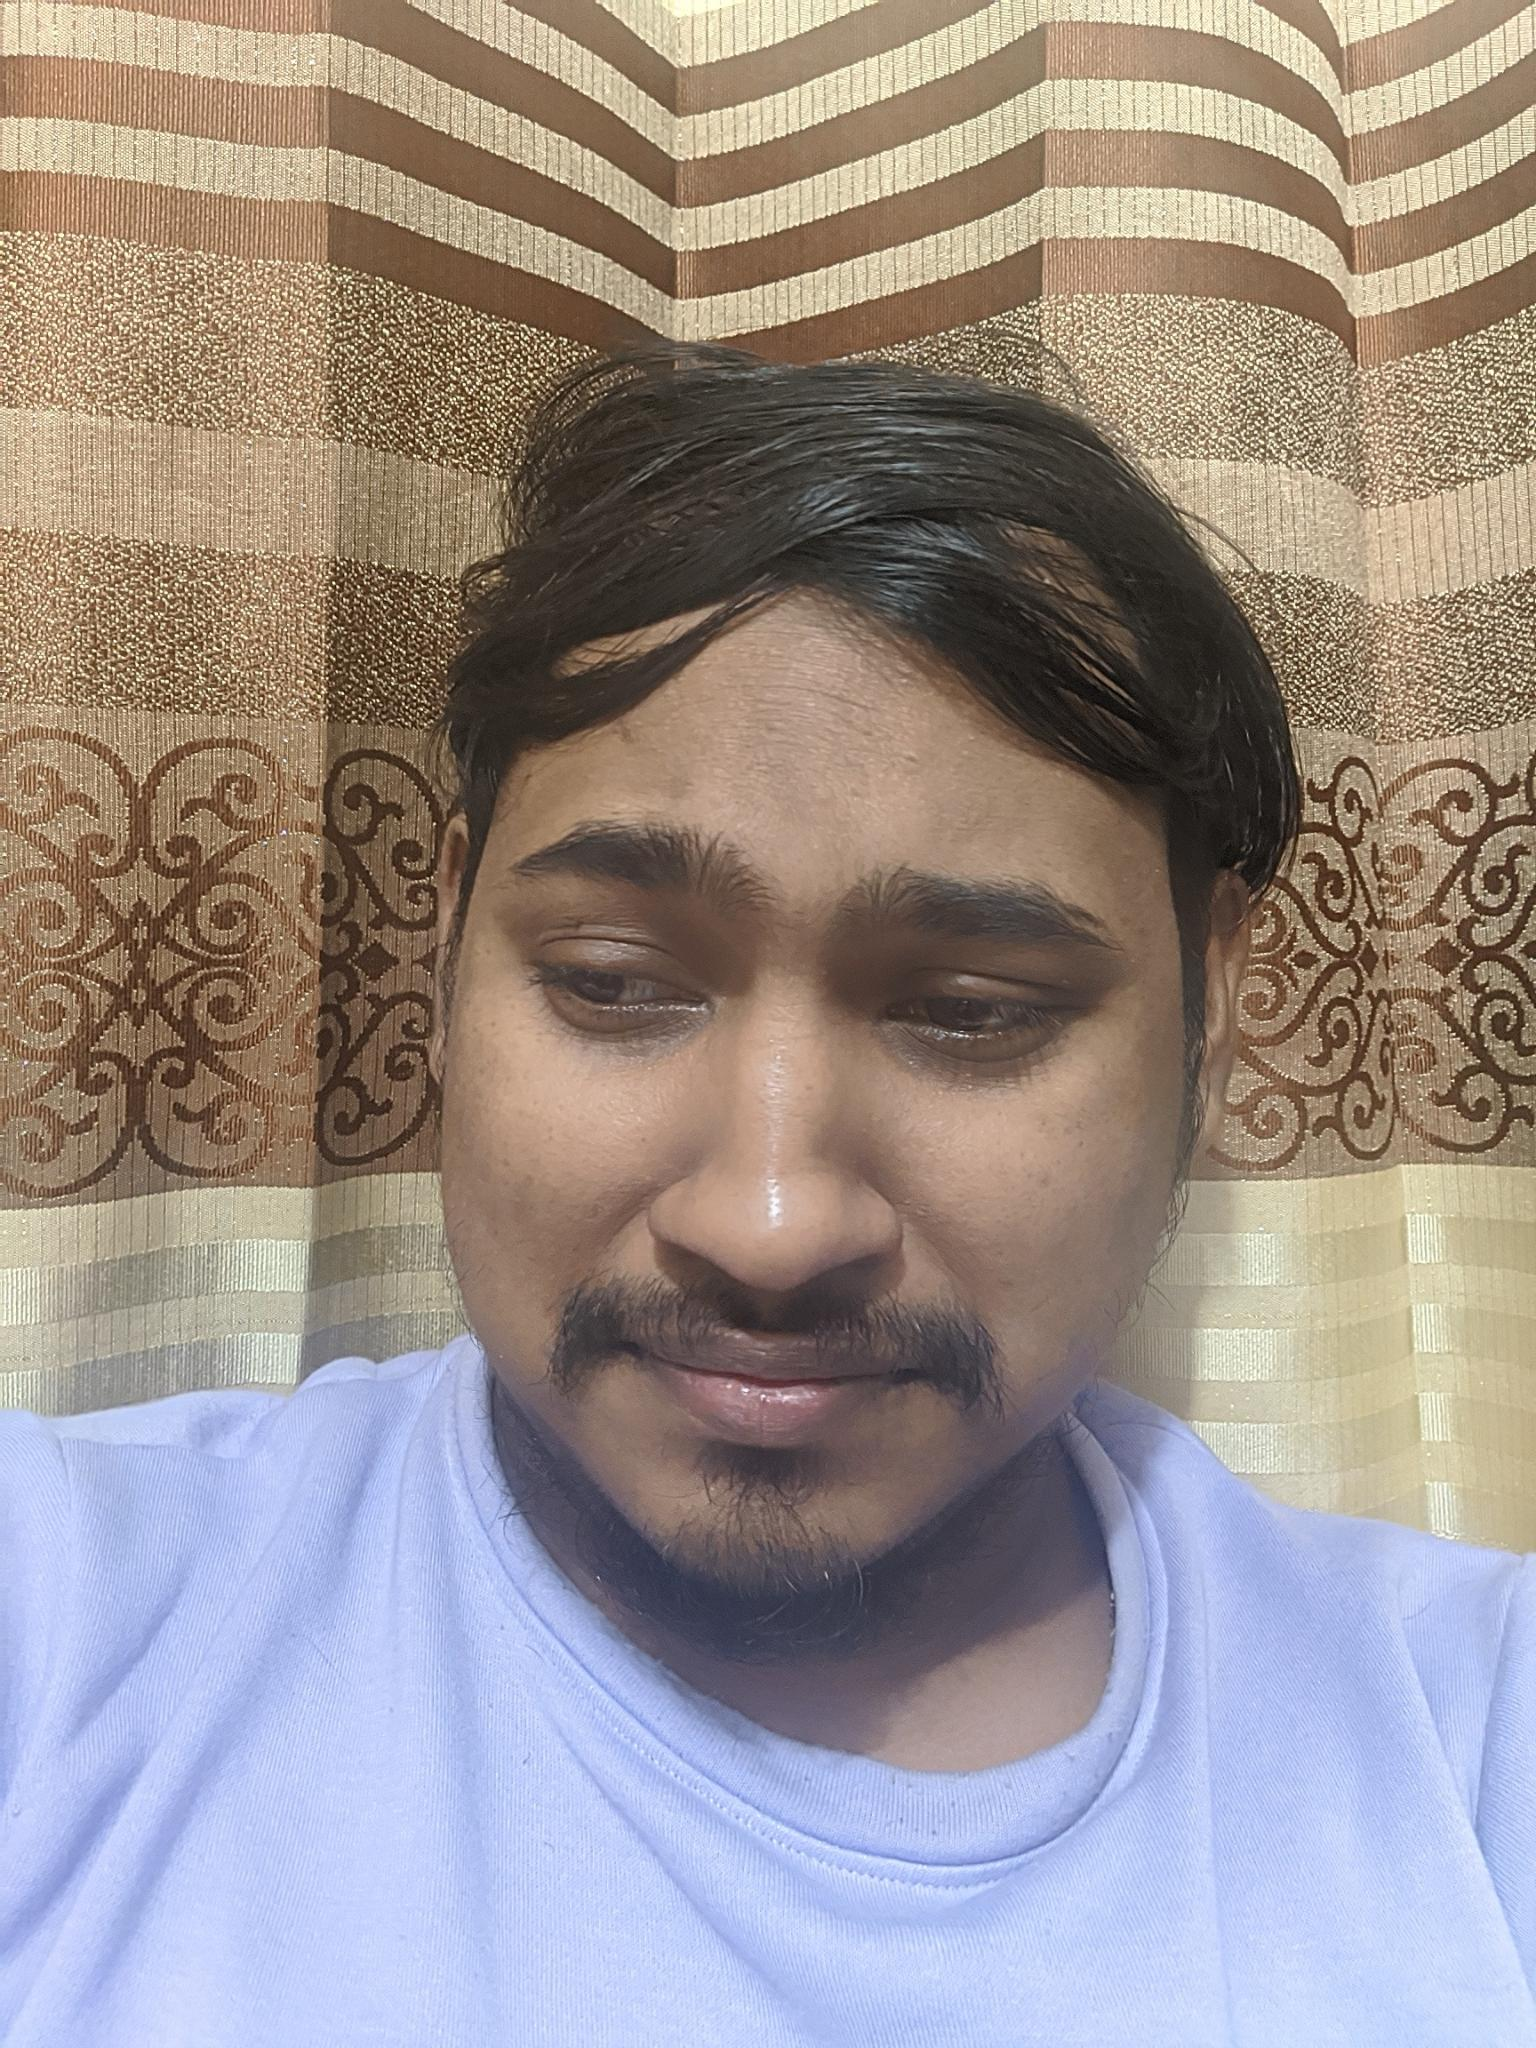Sad: (445, 716, 1167, 1632)
